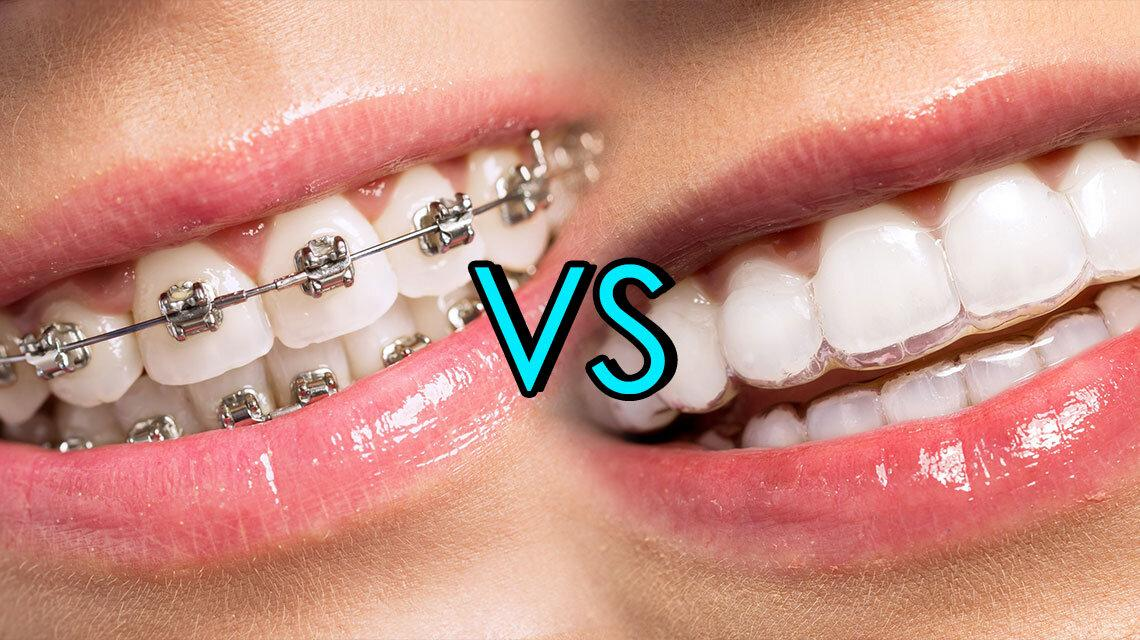Braces: (0, 121, 601, 463)
